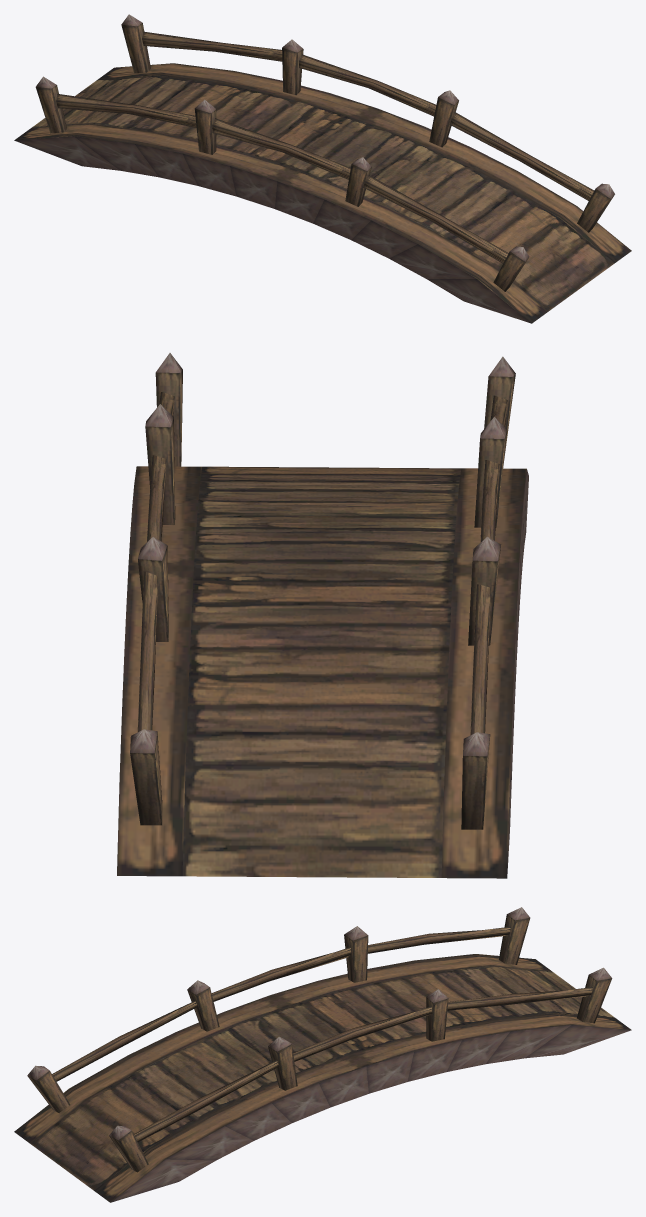
File: object_bridges01.fbx
3 views of the same model, one above another, from view 1: azimuth 30°, elevation 25°; view 2: azimuth 150°, elevation 25°; view 3: azimuth 270°, elevation 25° (orthographic). The views are drawn at different scales.
Parts seen in each view (by area): view 1: Material_#238683927/building3shadow; view 2: Material_#238683927/building3shadow; view 3: Material_#238683927/building3shadow.
Part boxes in pixels (x1,y1,x2,y2): Material_#238683927/building3shadow: (14,14,631,323); Material_#238683927/building3shadow: (117,353,528,878); Material_#238683927/building3shadow: (14,907,631,1202).
Size of the model in its own units: 9.68 by 3.08 by 13.05.
